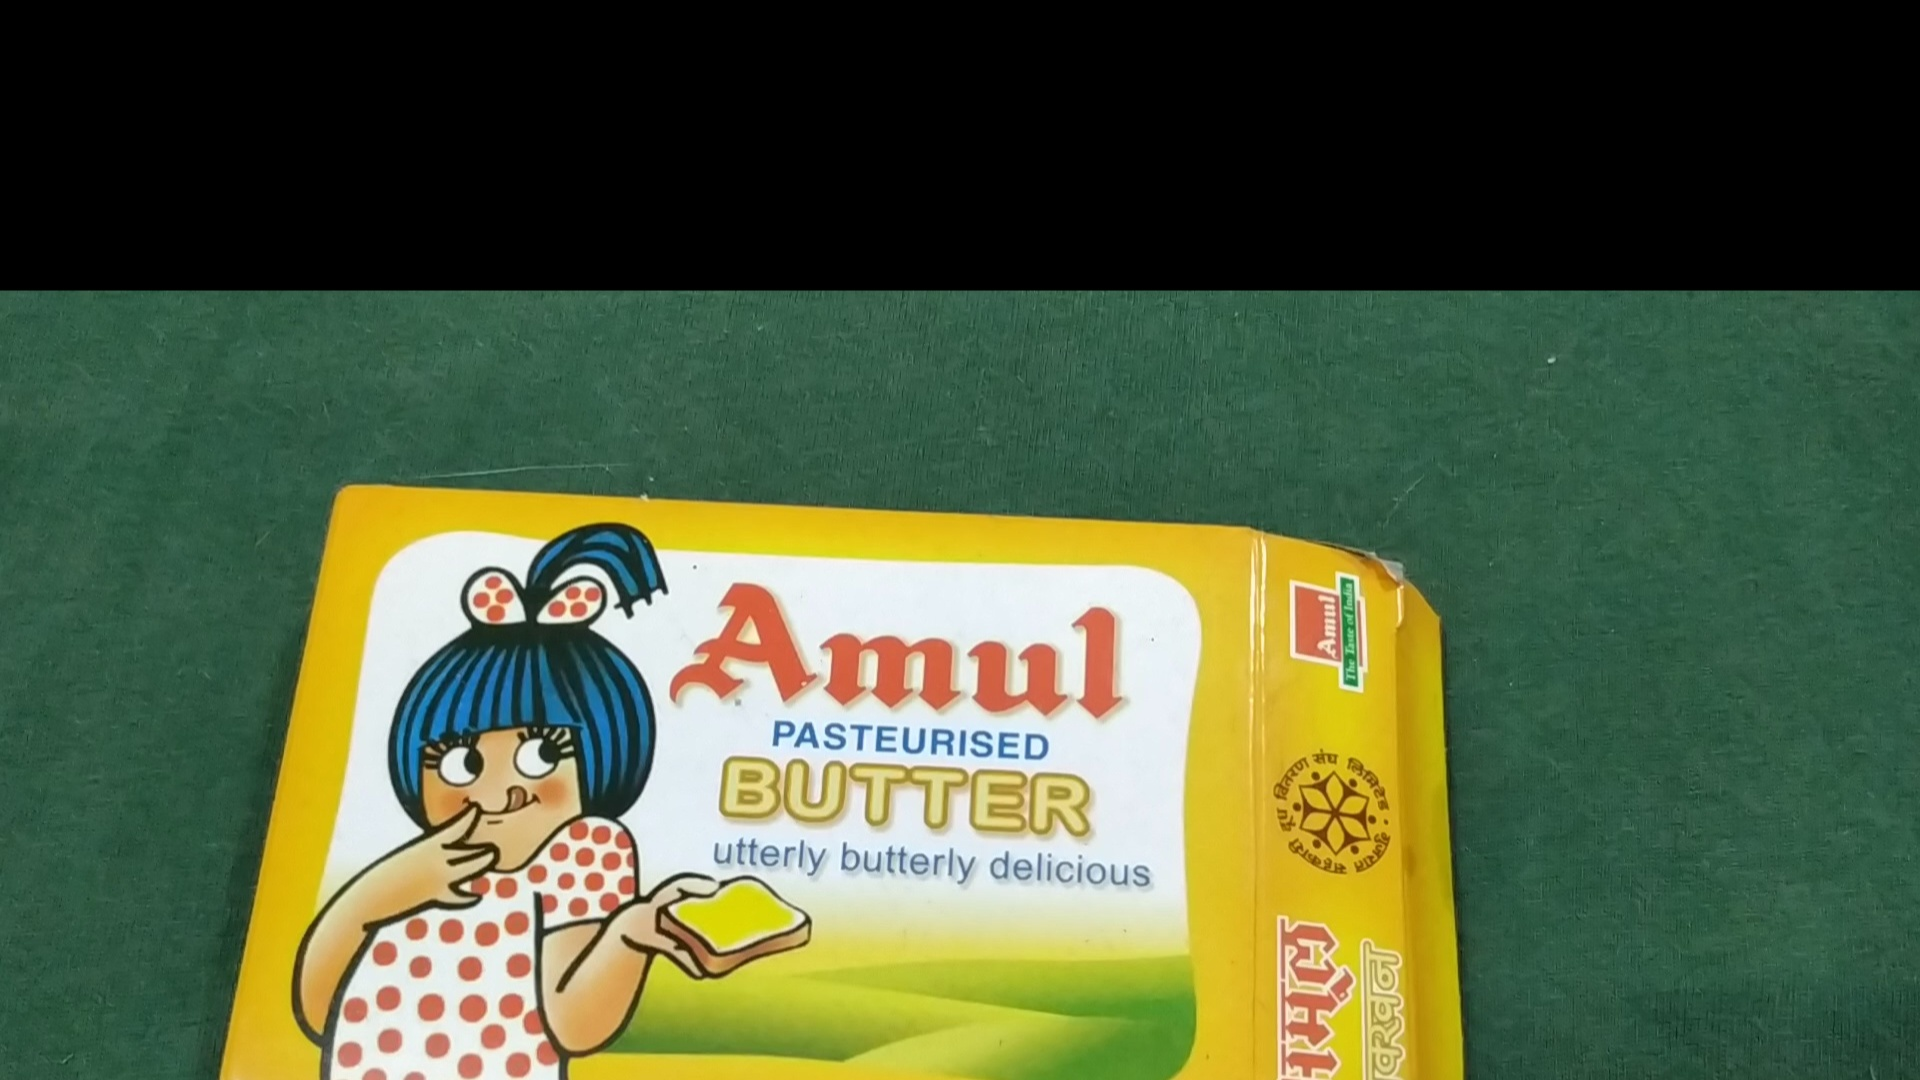amul_butter: (210, 484, 1457, 1080)
